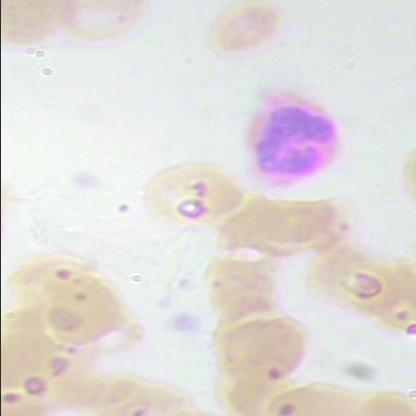Platelets: (70, 167, 102, 193), (168, 310, 200, 336)
RBC: (34, 272, 146, 347), (136, 155, 250, 225), (206, 313, 320, 383), (316, 256, 407, 320), (200, 252, 291, 315), (197, 0, 284, 56), (58, 0, 150, 50), (276, 374, 366, 416)
WBC: (242, 81, 348, 196)
